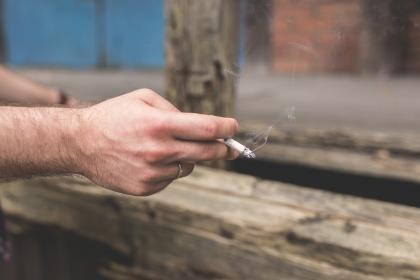cigarette: (218, 133, 259, 164)
